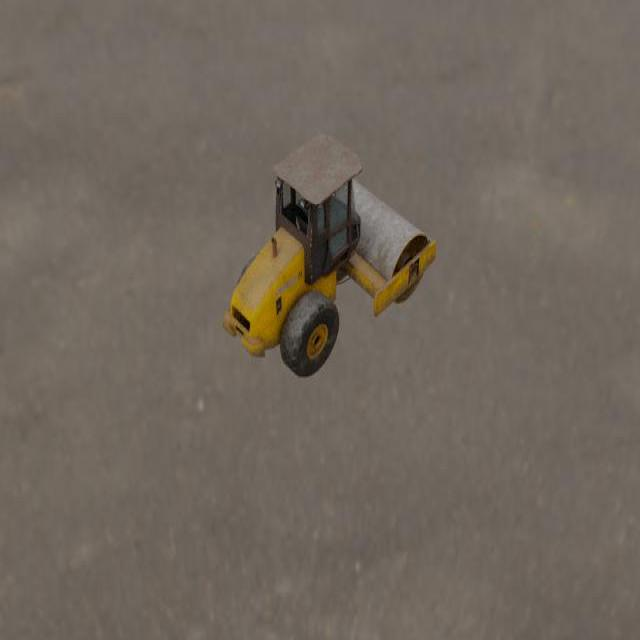Roller: (221, 132, 437, 377)
